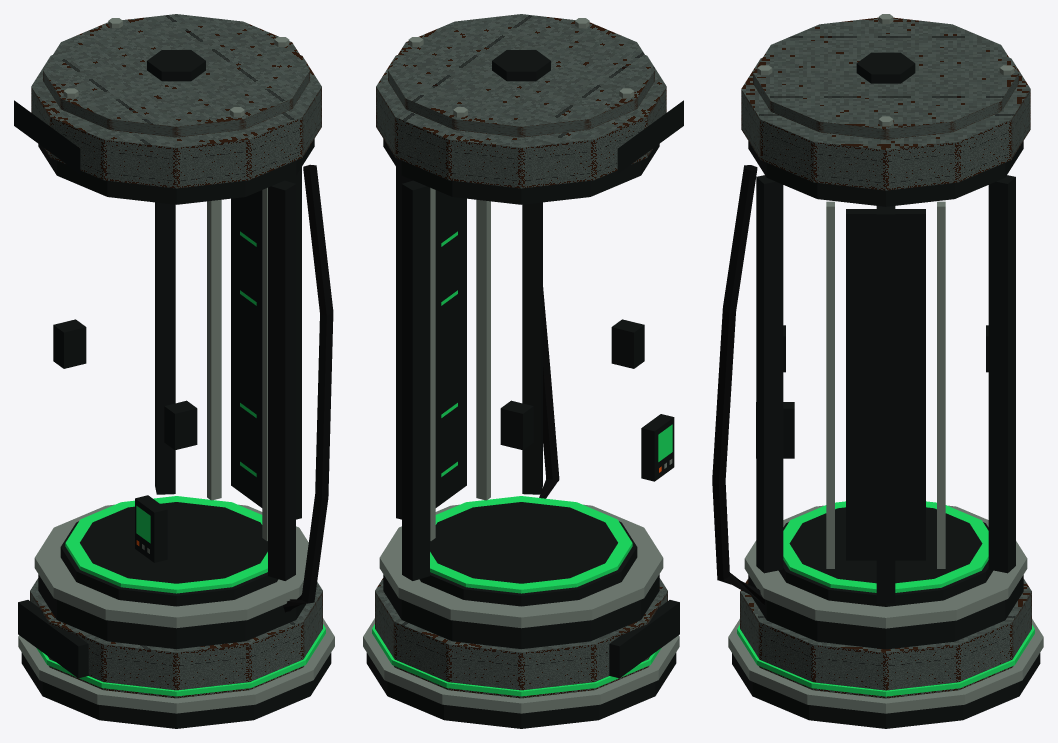
File: capsula_casca.obj
The picture shows the model from 3 angles, left to right: view 1: azimuth 30°, elevation 25°; view 2: azimuth 150°, elevation 25°; view 3: azimuth 270°, elevation 25°; orthographic projection.
Bounding box in the file's own units: 2.68 × 5.63 × 2.82.
Materials: 6 (1 with a texture image).
